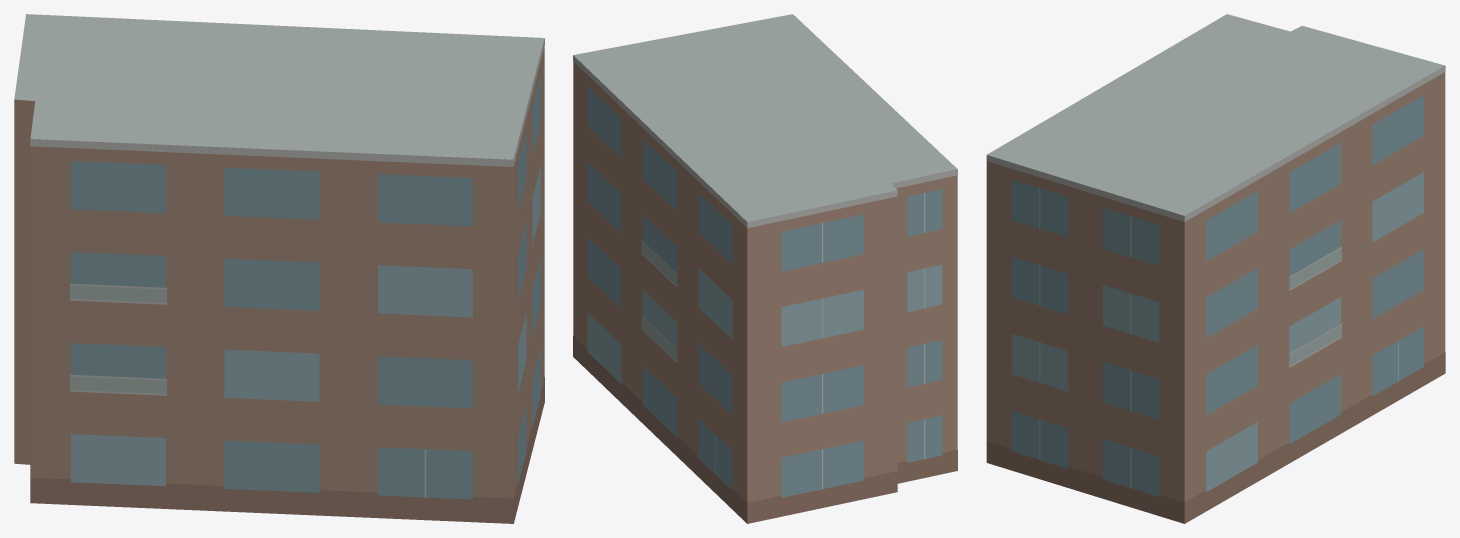
File: survey-upis-32618096.glb
The picture shows the model from 3 angles, left to right: view 1: azimuth 30°, elevation 25°; view 2: azimuth 150°, elevation 25°; view 3: azimuth 270°, elevation 25°; orthographic projection. The views are drawn at different scales.
Visible parts, largest first — view 1: survey-upis-32618096.tmp; view 2: survey-upis-32618096.tmp; view 3: survey-upis-32618096.tmp.
Boxes of the visible parts, <box> form: survey-upis-32618096.tmp: <box>14,14,544,523</box>; survey-upis-32618096.tmp: <box>573,14,957,523</box>; survey-upis-32618096.tmp: <box>986,14,1445,523</box>.
Bounding box in the file's own units: 17.17 × 12.2 × 16.48.
